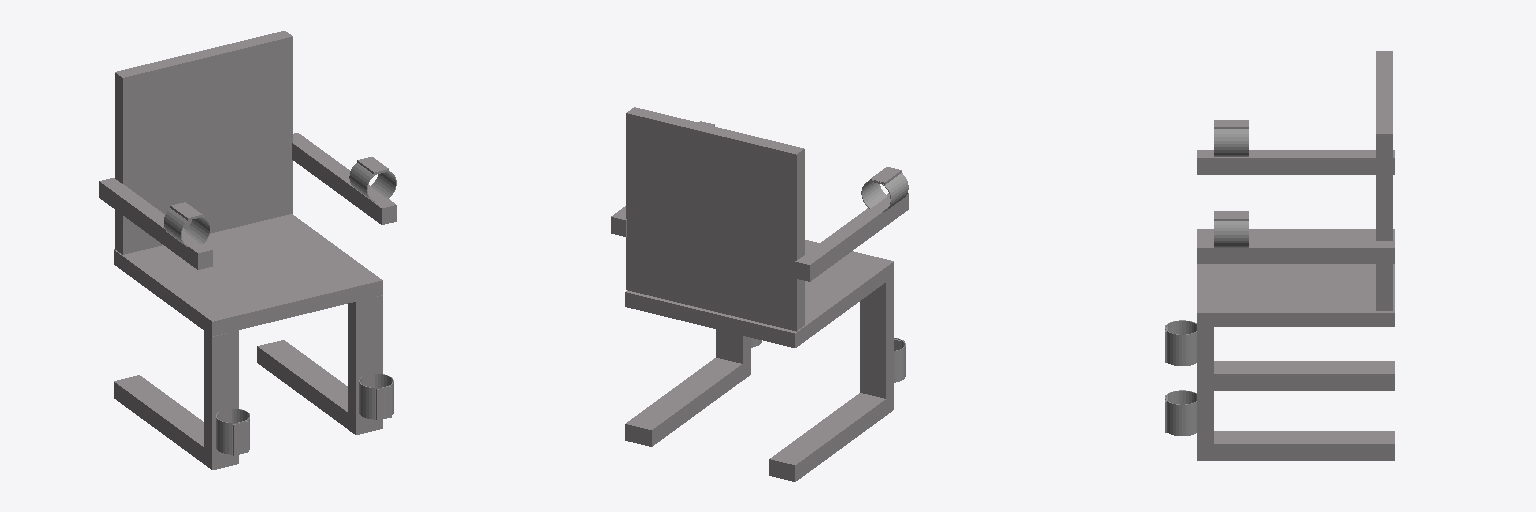
Rendered from chair.obj.
3 renders of one model, left to right at view 1: azimuth 30°, elevation 25°; view 2: azimuth 150°, elevation 25°; view 3: azimuth 270°, elevation 25°, orthographic.
Visible parts, largest first — view 1: Cube.006_Cube.007, Cube.001, Cube.002_Cube.003, Cube_Cube.002, Cube.005_Cube.006, Cube.004_Cube.005, Cube.008_Cube.009, Cube.007_Cube.008, Cylinder.001, Cylinder, Cylinder.002, Cylinder.003; view 2: Cube.006_Cube.007, Cube.001, Cube.005_Cube.006, Cube.004_Cube.005, Cube.002_Cube.003, Cube.008_Cube.009, Cube_Cube.002, Cylinder; view 3: Cube.001, Cube.005_Cube.006, Cube.004_Cube.005, Cube.007_Cube.008, Cube.008_Cube.009, Cube.006_Cube.007, Cube_Cube.002, Cylinder.003, Cylinder.002, Cylinder, Cylinder.001, Cube.003_Cube.004.
Part boxes in pixels (bbox=[...]): Cube.006_Cube.007: bbox=[115, 31, 292, 254]; Cube.001: bbox=[114, 214, 382, 336]; Cube.002_Cube.003: bbox=[204, 330, 238, 469]; Cube_Cube.002: bbox=[348, 295, 382, 434]; Cube.005_Cube.006: bbox=[257, 340, 347, 428]; Cube.004_Cube.005: bbox=[114, 375, 211, 469]; Cube.008_Cube.009: bbox=[99, 178, 212, 269]; Cube.007_Cube.008: bbox=[292, 133, 396, 224]; Cylinder.001: bbox=[349, 163, 396, 201]; Cylinder: bbox=[164, 208, 210, 246]; Cylinder.002: bbox=[359, 374, 393, 419]; Cylinder.003: bbox=[216, 409, 249, 454]; Cube.006_Cube.007: bbox=[626, 107, 804, 331]; Cube.001: bbox=[625, 240, 893, 347]; Cube.005_Cube.006: bbox=[625, 358, 742, 446]; Cube.004_Cube.005: bbox=[769, 393, 893, 481]; Cube.002_Cube.003: bbox=[860, 277, 893, 404]; Cube.008_Cube.009: bbox=[795, 193, 908, 281]; Cube_Cube.002: bbox=[716, 329, 750, 379]; Cylinder: bbox=[861, 173, 908, 211]; Cube.001: bbox=[1197, 229, 1394, 326]; Cube.005_Cube.006: bbox=[1197, 431, 1394, 460]; Cube.004_Cube.005: bbox=[1214, 361, 1394, 390]; Cube.007_Cube.008: bbox=[1197, 240, 1394, 263]; Cube.008_Cube.009: bbox=[1197, 150, 1394, 174]; Cube.006_Cube.007: bbox=[1376, 51, 1392, 310]; Cube_Cube.002: bbox=[1197, 327, 1213, 460]; Cylinder.003: bbox=[1165, 320, 1196, 365]; Cylinder.002: bbox=[1165, 390, 1196, 435]; Cylinder: bbox=[1214, 129, 1248, 156]; Cylinder.001: bbox=[1214, 221, 1248, 247]; Cube.003_Cube.004: bbox=[1214, 366, 1394, 388].
Size of the model in its own units: 0.7605 by 1.1 by 0.7014.